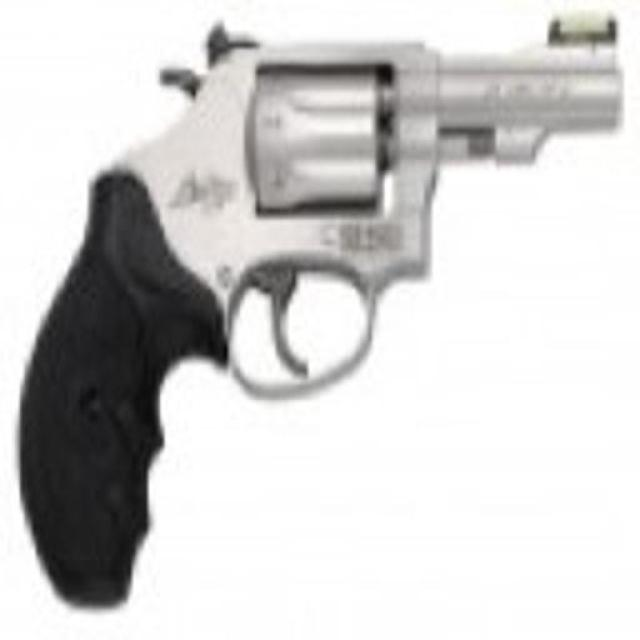pistol: (27, 5, 611, 596)
